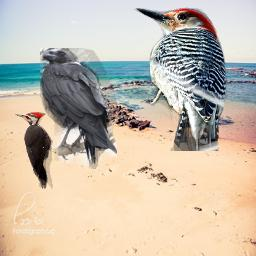Crow: (40, 48, 117, 169)
Woodpecker: (130, 0, 232, 151), (13, 112, 53, 189)
